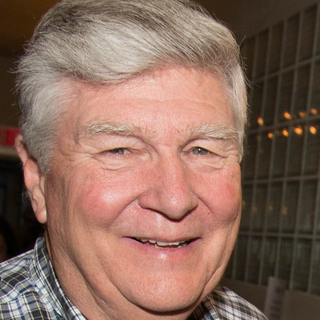eye: (92, 141, 144, 163), (178, 140, 223, 163)
